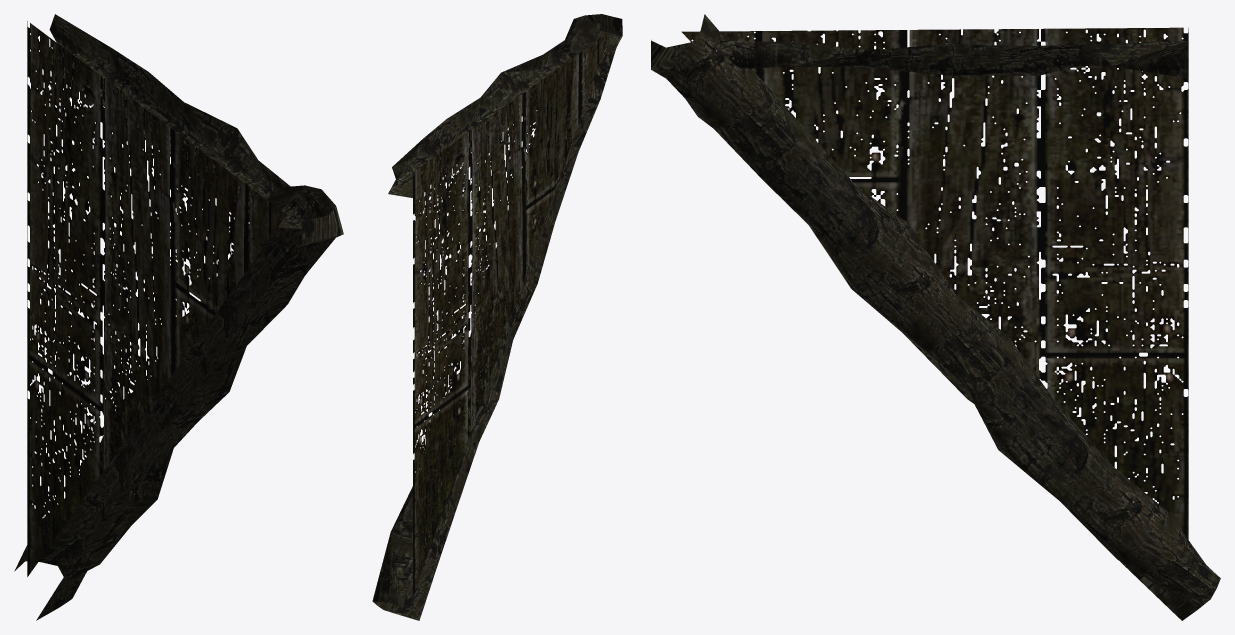
File: sloping_side_left.dae
3 renders of one model, left to right at view 1: azimuth 30°, elevation 25°; view 2: azimuth 150°, elevation 25°; view 3: azimuth 270°, elevation 25°, orthographic. The views are drawn at different scales.
Parts seen in each view (by area): view 1: pPlane1, polySurface23; view 2: pPlane1, polySurface23; view 3: pPlane1, polySurface23.
Boxes of the visible parts, bbox=[...] form: pPlane1: bbox=[27, 21, 286, 576]; polySurface23: bbox=[14, 14, 343, 620]; pPlane1: bbox=[413, 31, 610, 596]; polySurface23: bbox=[372, 14, 622, 620]; pPlane1: bbox=[681, 27, 1188, 539]; polySurface23: bbox=[651, 14, 1220, 620].
Bounding box in the file's own units: 0.2132 × 2.62 × 2.27.
